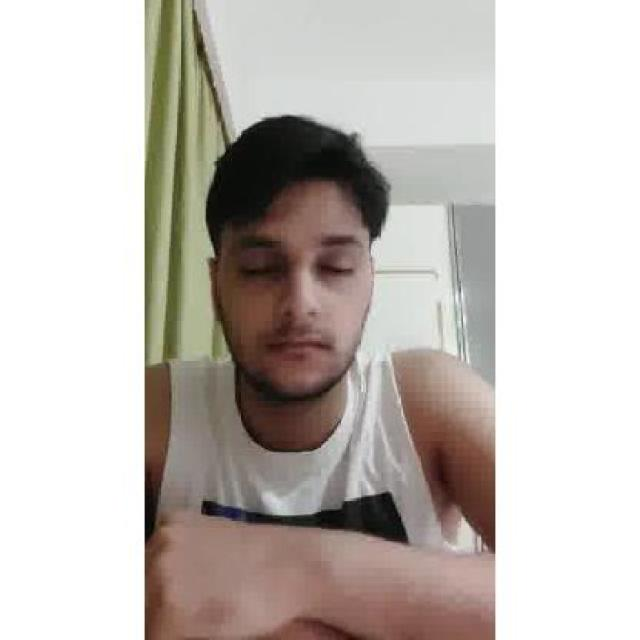inattentif: (208, 115, 377, 402)
